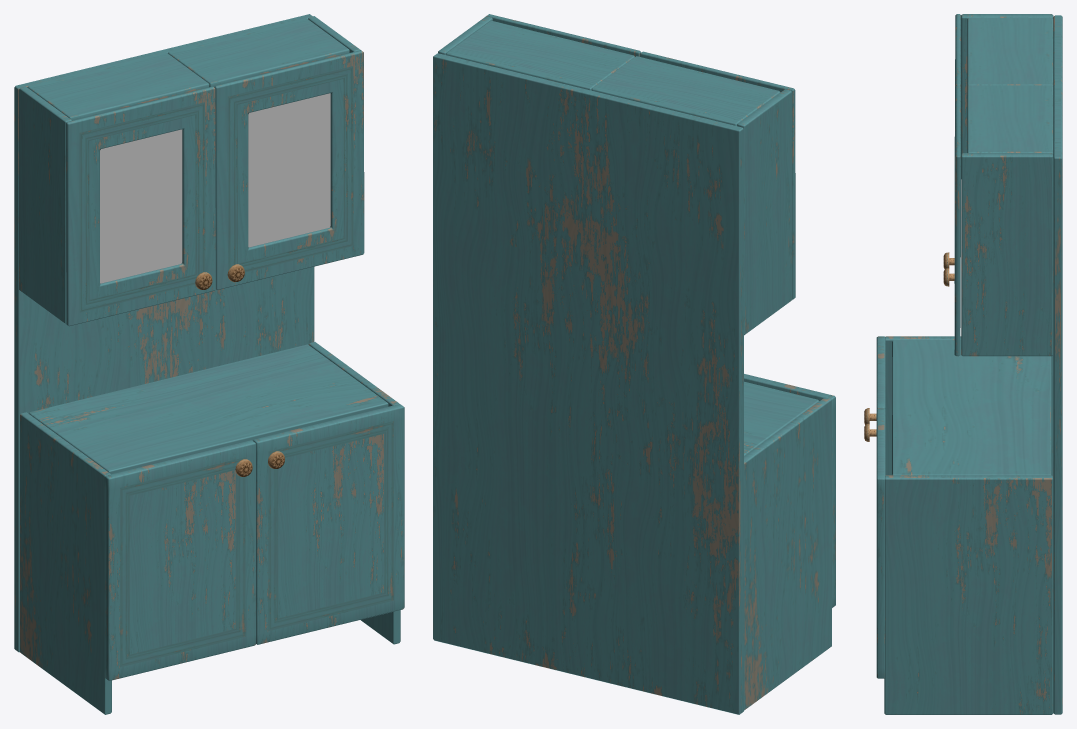
The model's file is blue-kitchen1.obj.
The picture shows the model from 3 angles, left to right: view 1: azimuth 30°, elevation 25°; view 2: azimuth 150°, elevation 25°; view 3: azimuth 270°, elevation 25°; orthographic projection. The views are drawn at different scales.
Parts seen in each view (by area): view 1: blue_kitchen1:Cabinet_Side_BFBXASC046015; view 2: blue_kitchen1:Cabinet_Side_BFBXASC046015; view 3: blue_kitchen1:Cabinet_Side_BFBXASC046015.
Boxes of the visible parts, x1,y1,x2,y2 form: blue_kitchen1:Cabinet_Side_BFBXASC046015: [14, 14, 404, 714]; blue_kitchen1:Cabinet_Side_BFBXASC046015: [433, 14, 835, 714]; blue_kitchen1:Cabinet_Side_BFBXASC046015: [864, 14, 1062, 714].
Size of the model in its own units: 147 by 267 by 85.98.
2 materials, 1 textured.
